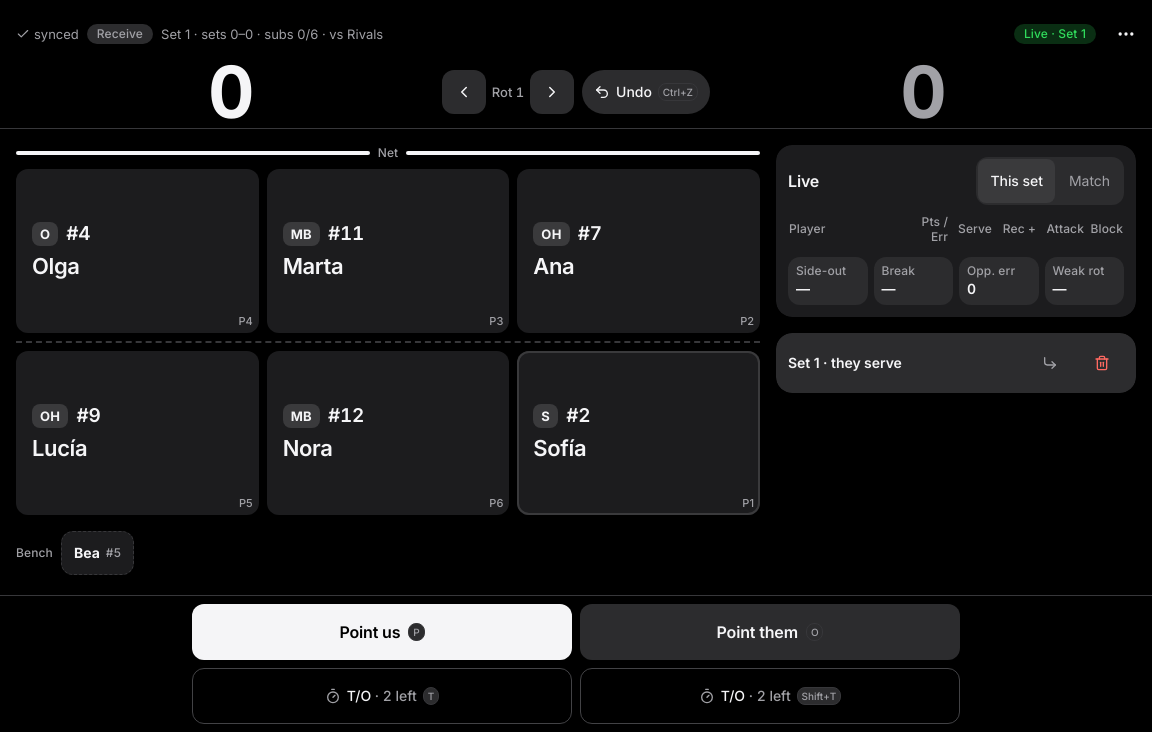
it: ScoutPage › hides the bench while a player actions sheet is open, to leave room for grading
Expected: the element labelled "Bench" is shown, [16,531,134,575]
Click the button "P2 OH #7 Ana" at (639, 251), box [517,169,760,333]
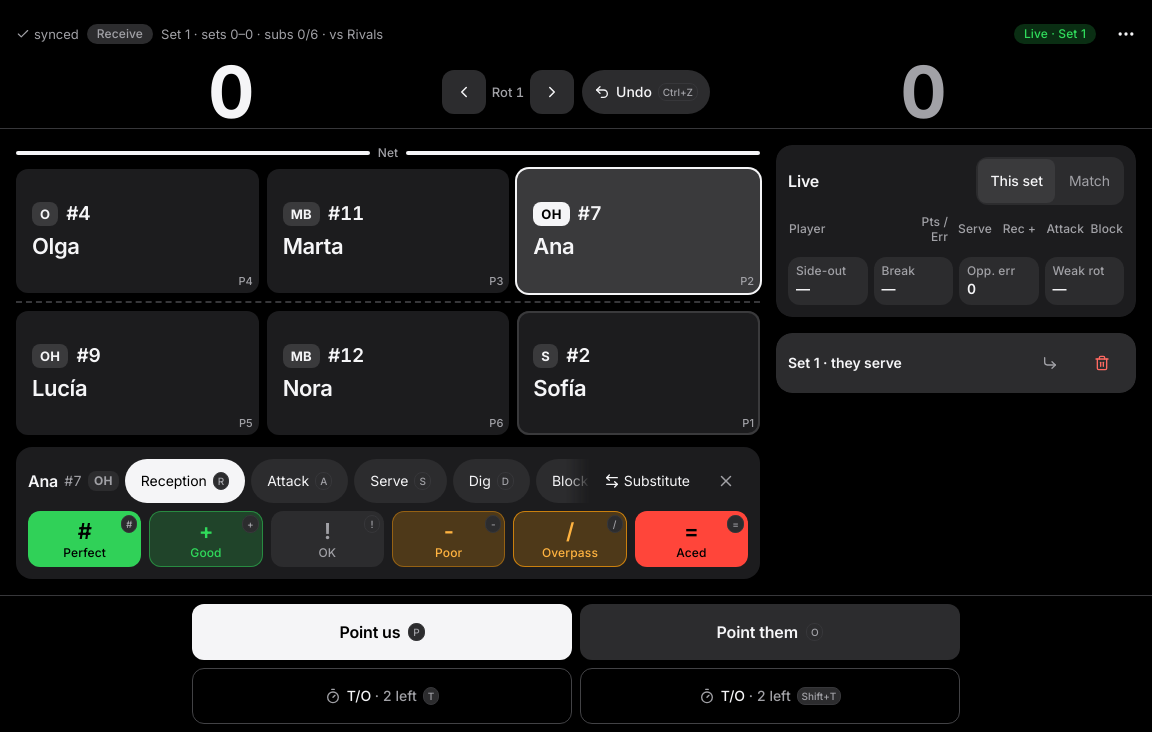
Expected: the element named "Actions for" is shown, [16,447,760,579]
Expected: the text labelled "Bench" is gone
Click the button named "Close actions" at (726, 481), box [704,459,748,503]
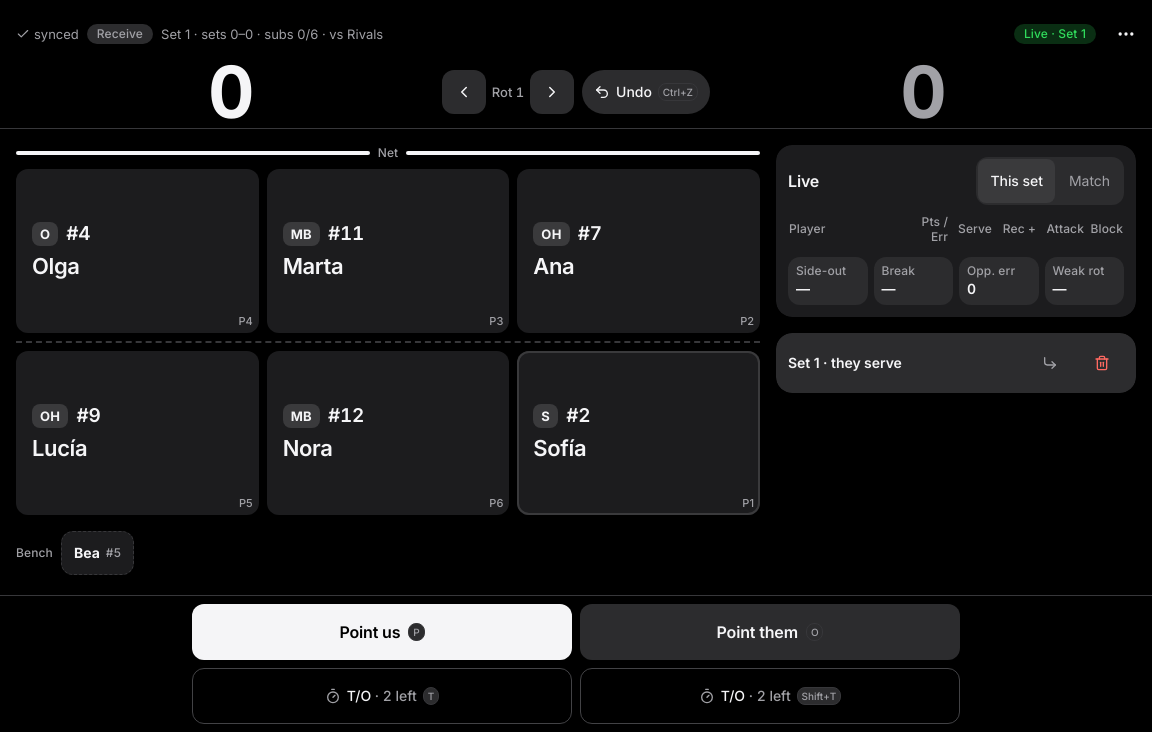
Expected: the element labelled "Bench" is shown, [16,531,134,575]
